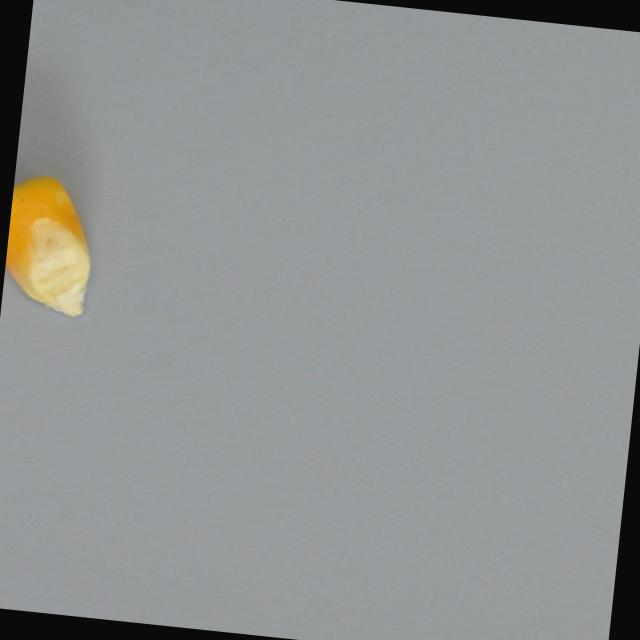entero: (0, 168, 115, 323)
